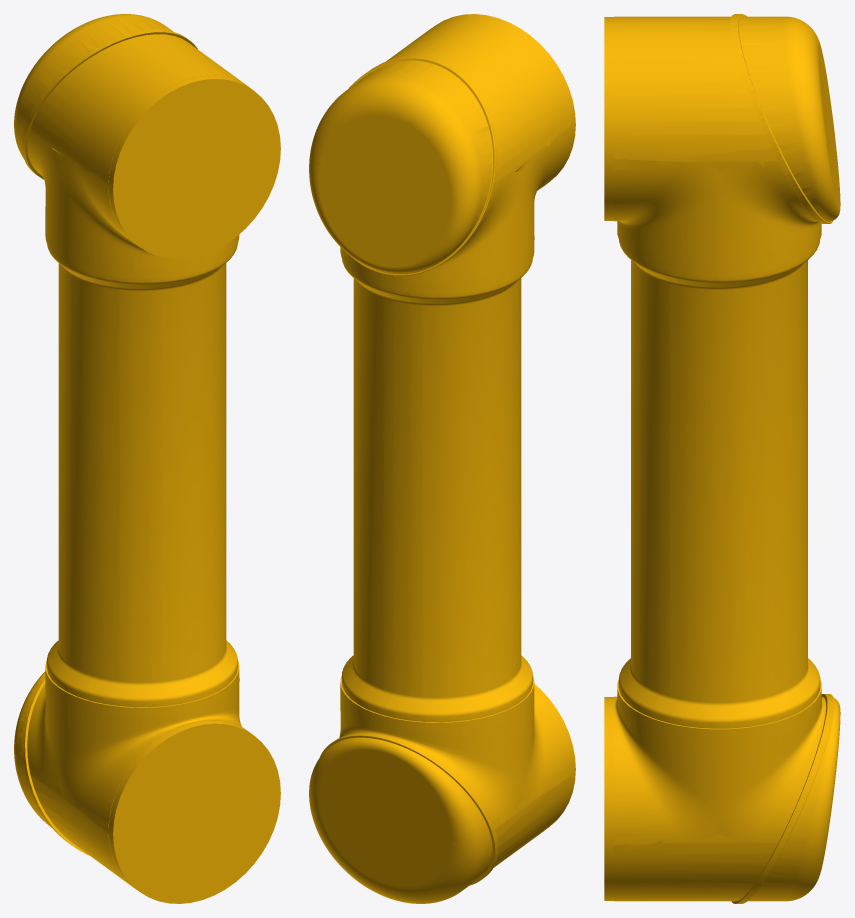
The model's file is upperarm.dae.
3 renders of one model, left to right at view 1: azimuth 30°, elevation 25°; view 2: azimuth 150°, elevation 25°; view 3: azimuth 270°, elevation 25°, orthographic. The views are drawn at different scales.
Parts seen in each view (by area): view 1: Actor3, Actor2, Actor0, Actor1, Actor4; view 2: Actor3, Actor1, Actor4, Actor2, Actor0; view 3: Actor3, Actor2, Actor0, Actor1, Actor4.
Boxes of the visible parts, x1,y1,x2,y2 form: Actor3: [46, 243, 237, 707]; Actor2: [27, 34, 280, 276]; Actor0: [27, 661, 280, 903]; Actor1: [14, 14, 197, 179]; Actor4: [14, 671, 89, 855]; Actor3: [342, 258, 532, 722]; Actor1: [309, 55, 498, 275]; Actor4: [309, 733, 498, 903]; Actor2: [340, 14, 575, 291]; Actor0: [339, 675, 575, 867]; Actor3: [618, 240, 820, 728]; Actor2: [604, 16, 821, 274]; Actor0: [604, 679, 826, 901]; Actor1: [730, 14, 840, 223]; Actor4: [731, 694, 840, 903].
Bounding box in the file's own units: 0.119 × 0.1337 × 0.544.
